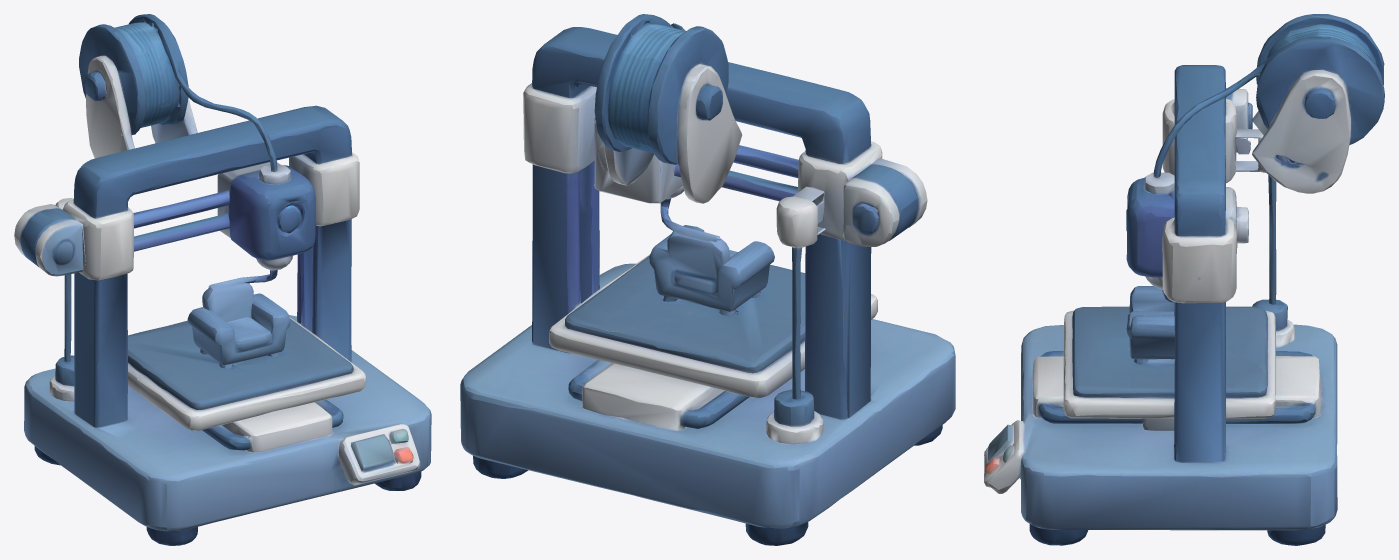
The picture shows the model from 3 angles, left to right: view 1: azimuth 30°, elevation 25°; view 2: azimuth 150°, elevation 25°; view 3: azimuth 270°, elevation 25°; orthographic projection. The views are drawn at different scales.
Visible parts, largest first — view 1: geometry_0; view 2: geometry_0; view 3: geometry_0.
Part boxes in pixels (x1=…): geometry_0: x1=14, y1=14, x2=431, y2=545; geometry_0: x1=460, y1=14, x2=955, y2=545; geometry_0: x1=984, y1=14, x2=1384, y2=545.
Bounding box in the file's own units: 0.2944 × 0.3497 × 0.2895.
1 material, 1 textured.
